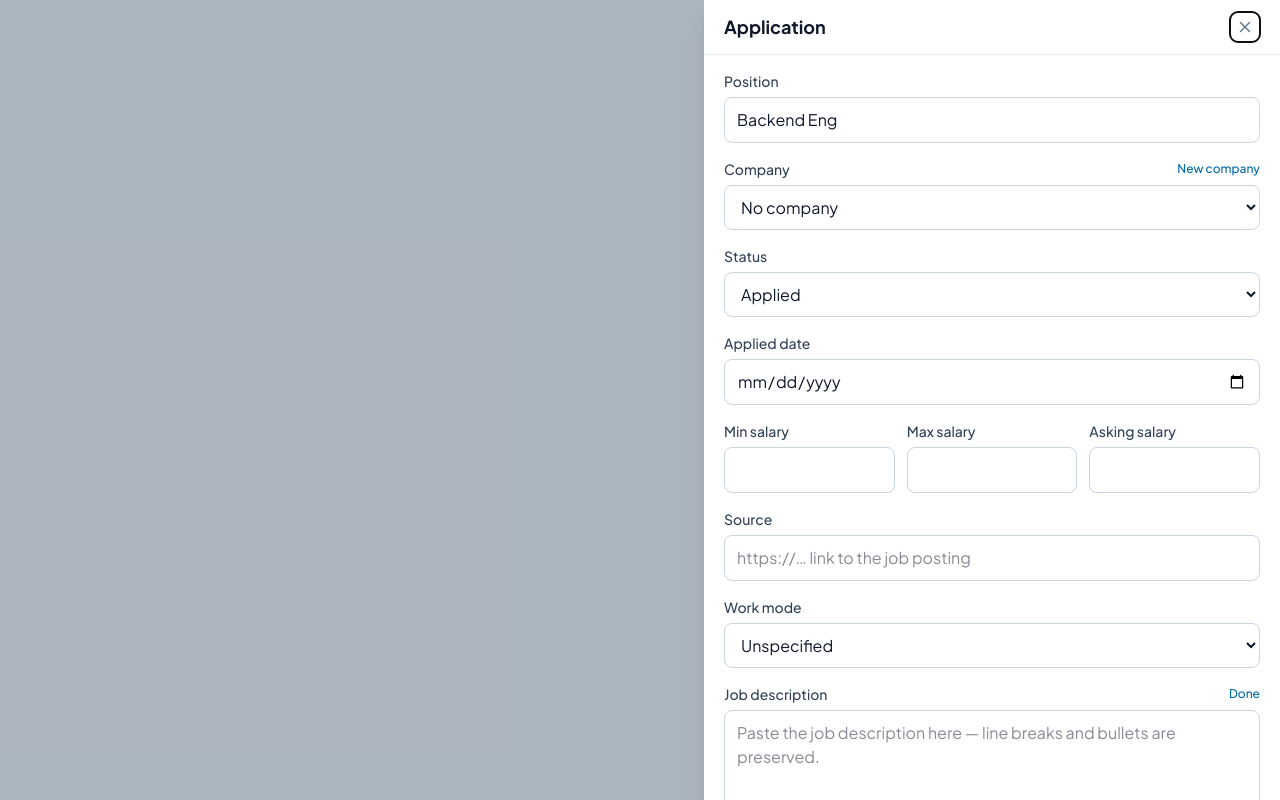
it: can create a company inline and it becomes selected
Click the button "New company" at coordinates (1219, 169), box [1177,161,1260,177]
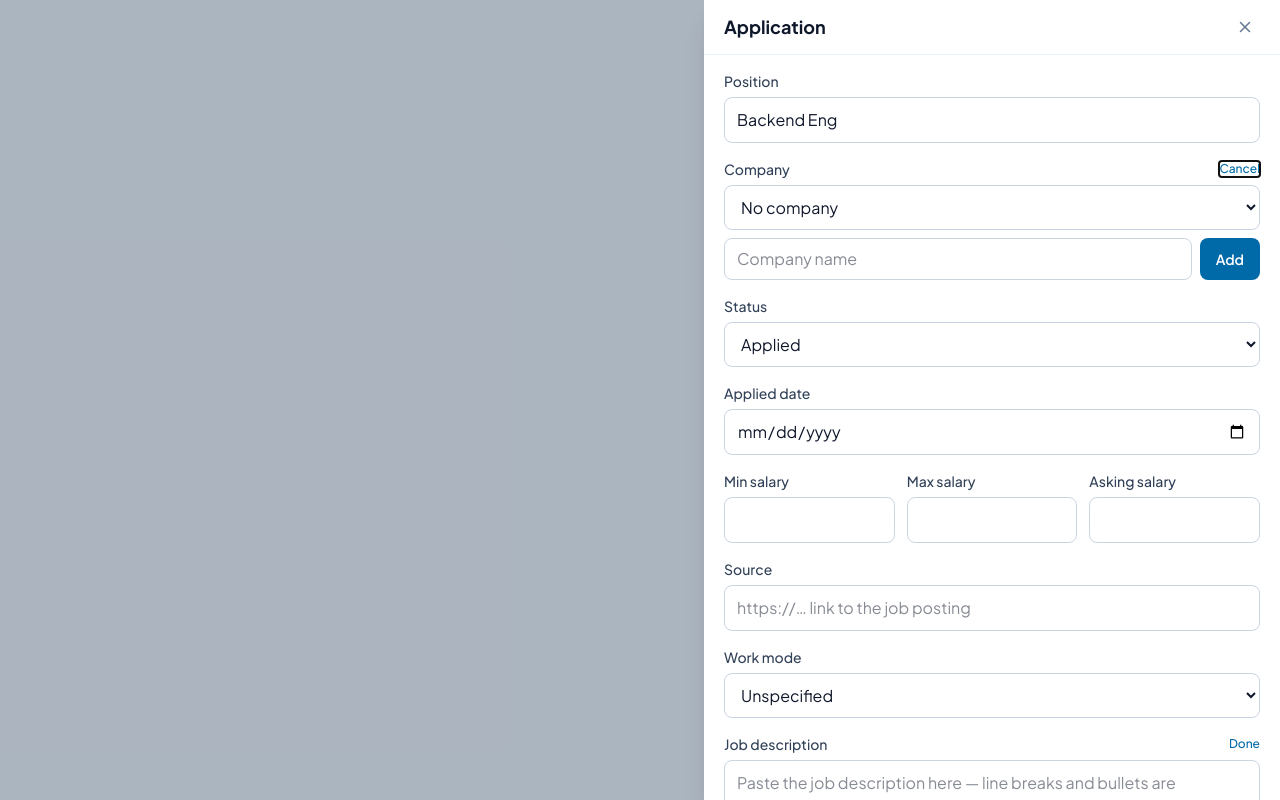
Type "Globex" into the field named "new company name" at coordinates (958, 259), box [724,238,1192,280]
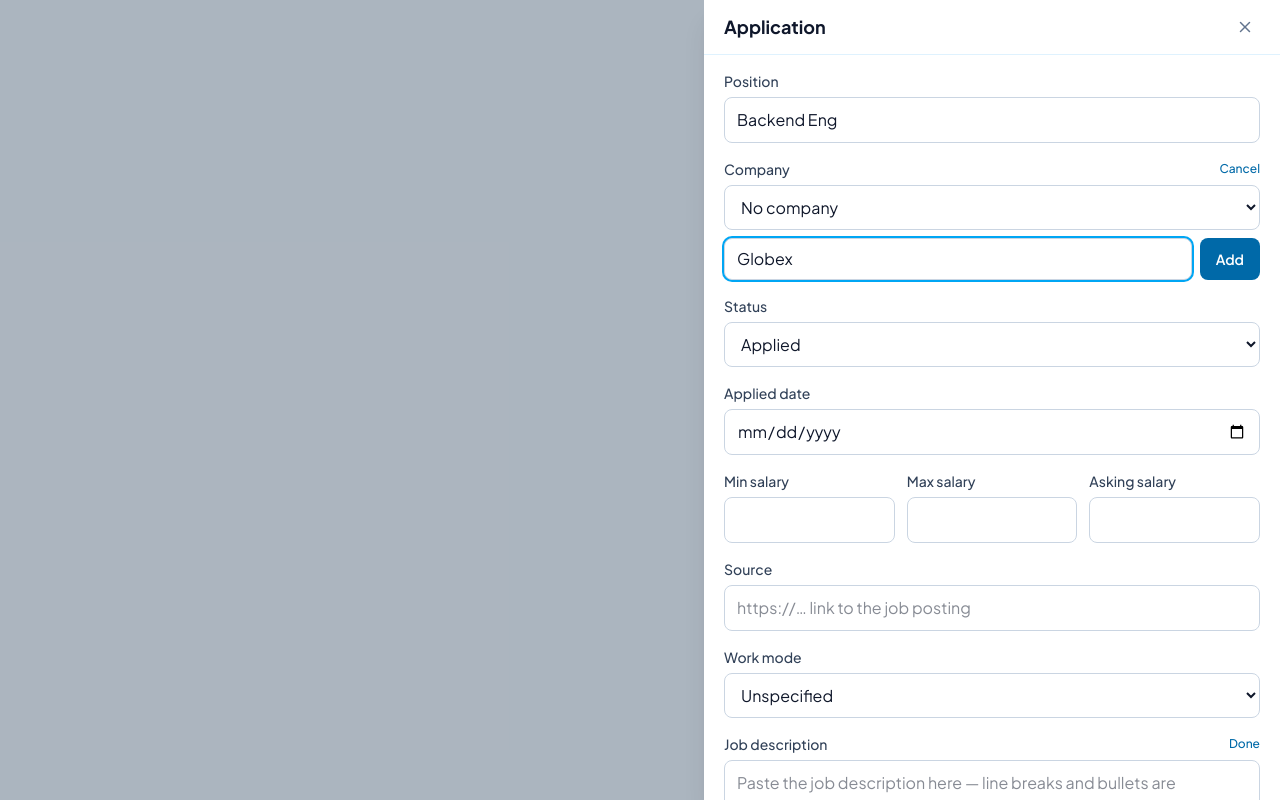
Click the button "Add" at coordinates (1230, 259), box [1200,238,1260,280]
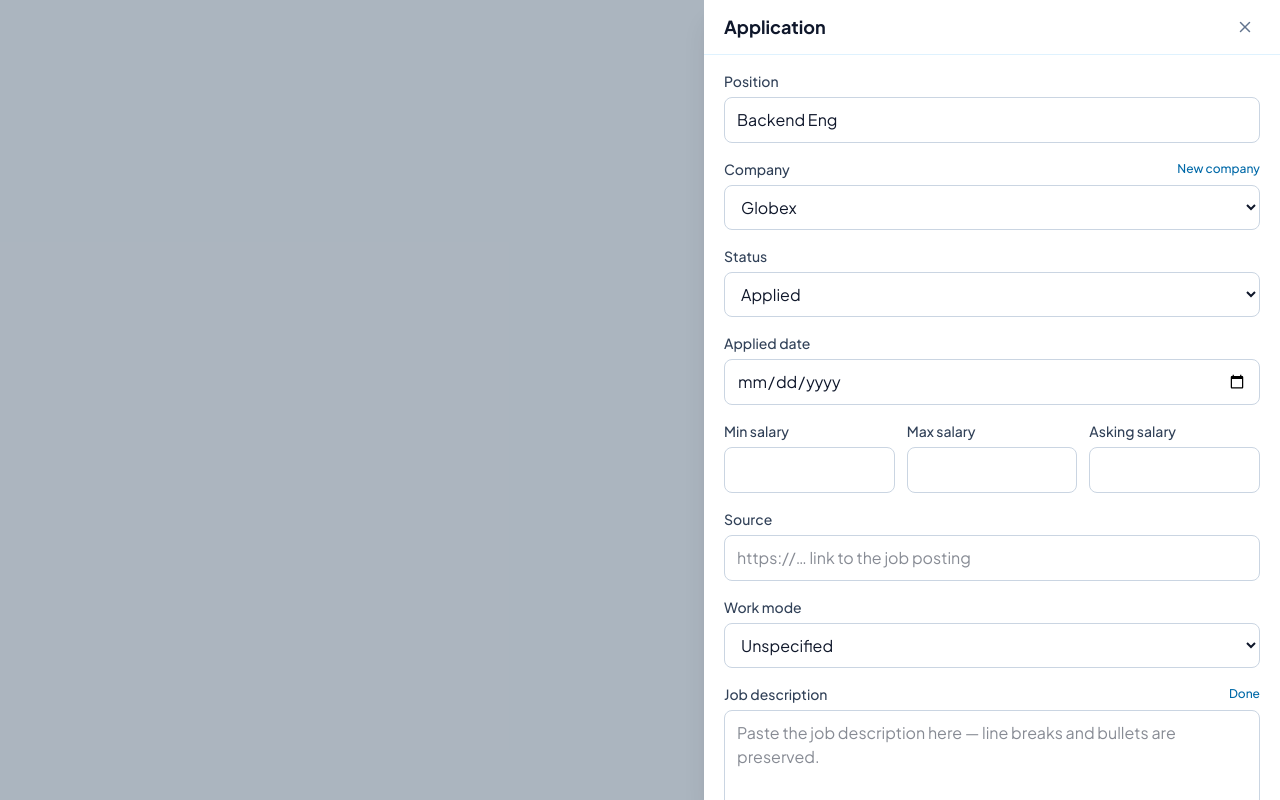
Check: the dropdown named "company" shows "Globex", box [724,185,1260,230]
